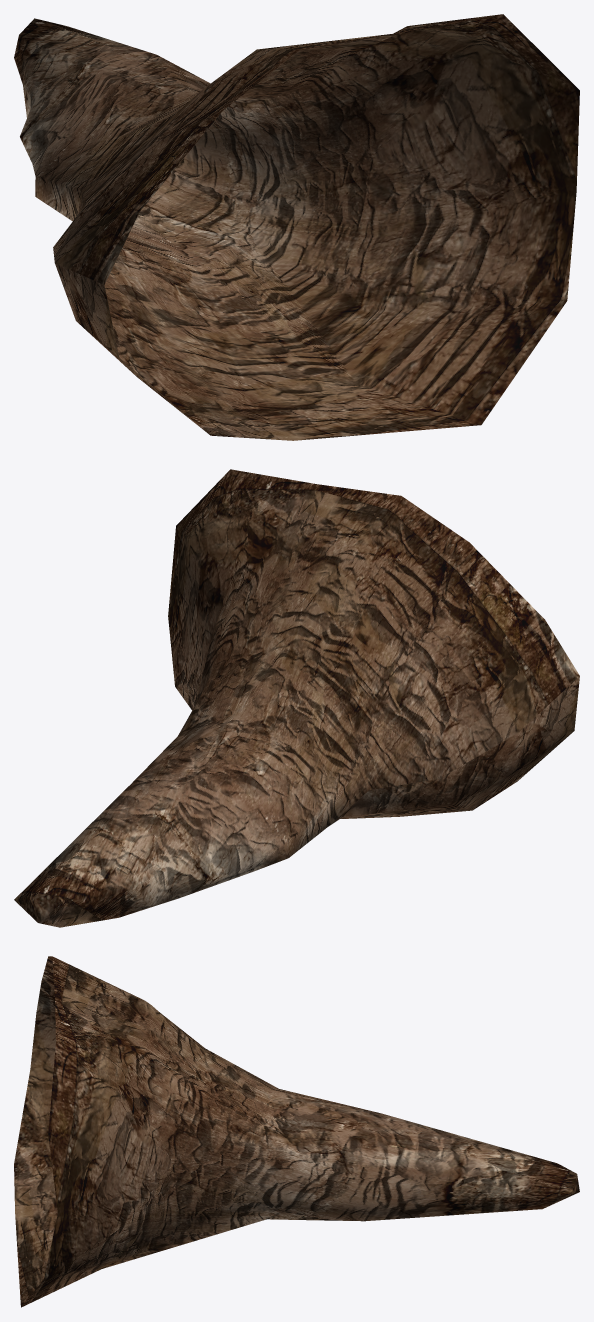
File: MEP_DesertCliff_19.fbx
The picture shows the model from 3 angles, top to bottom: view 1: azimuth 30°, elevation 25°; view 2: azimuth 150°, elevation 25°; view 3: azimuth 270°, elevation 25°; orthographic projection. The views are drawn at different scales.
Visible parts, largest first — view 1: MEP_Desert_Cliff_19; view 2: MEP_Desert_Cliff_19; view 3: MEP_Desert_Cliff_19.
Part boxes in pixels (x1,y1,x2,y2): MEP_Desert_Cliff_19: (14, 14, 579, 440); MEP_Desert_Cliff_19: (14, 469, 579, 927); MEP_Desert_Cliff_19: (14, 956, 579, 1307).
Bounding box in the file's own units: 30.01 × 23.48 × 40.99.
